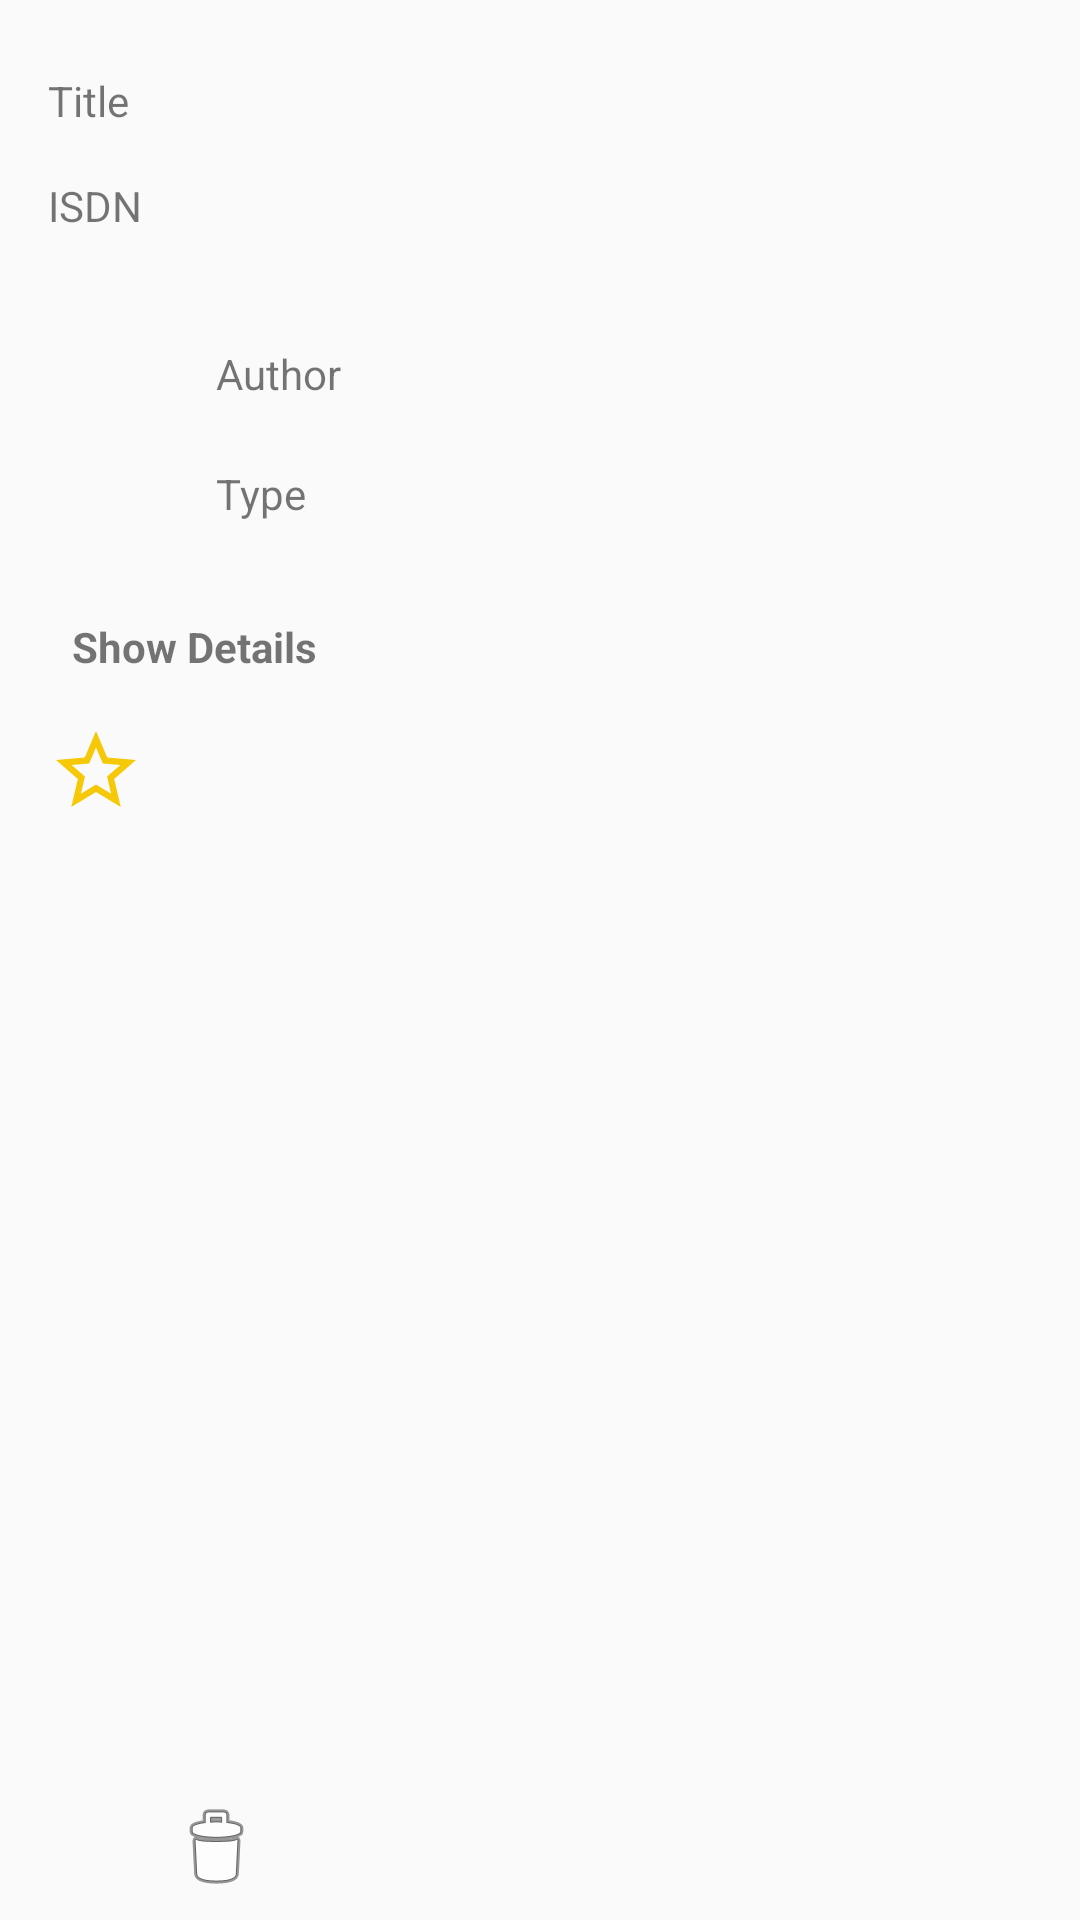

Icons on this 1080x1920 Android screen, each with the point to tap as (x,y):
delete: (216,1846)
